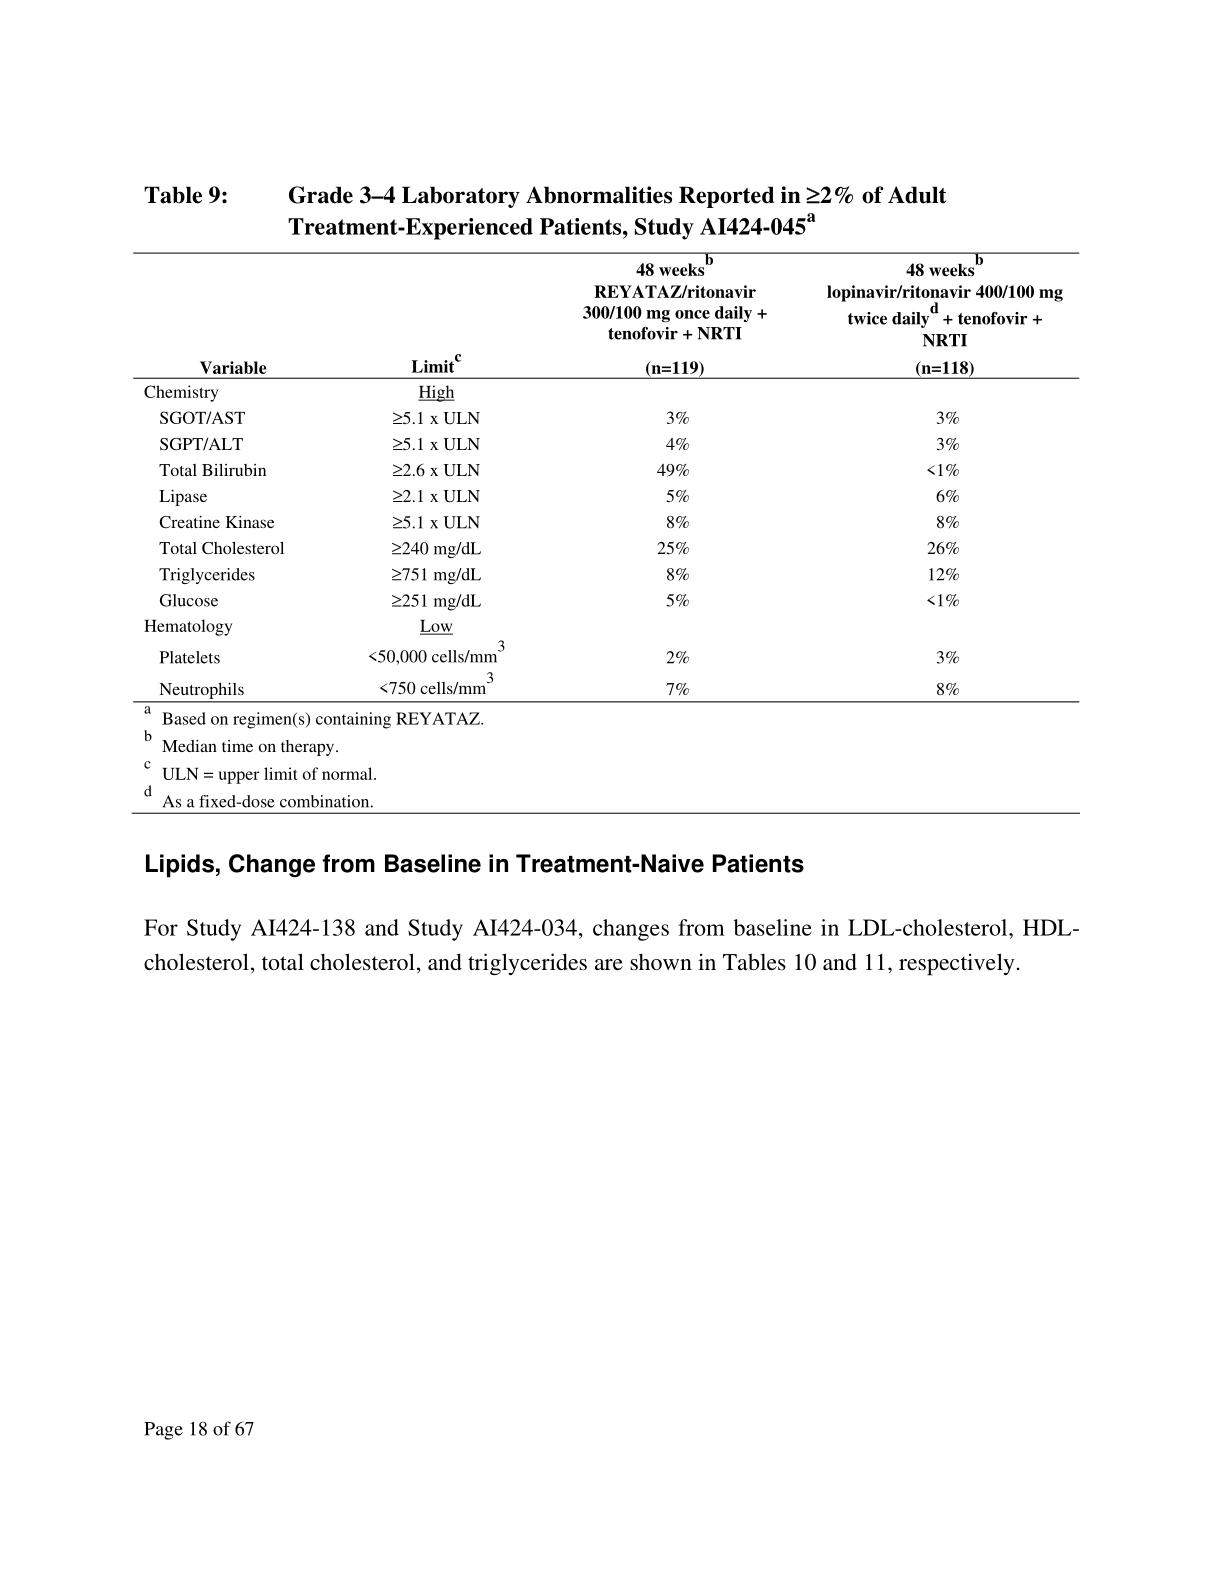partial_lined: (131, 249, 1083, 706)
